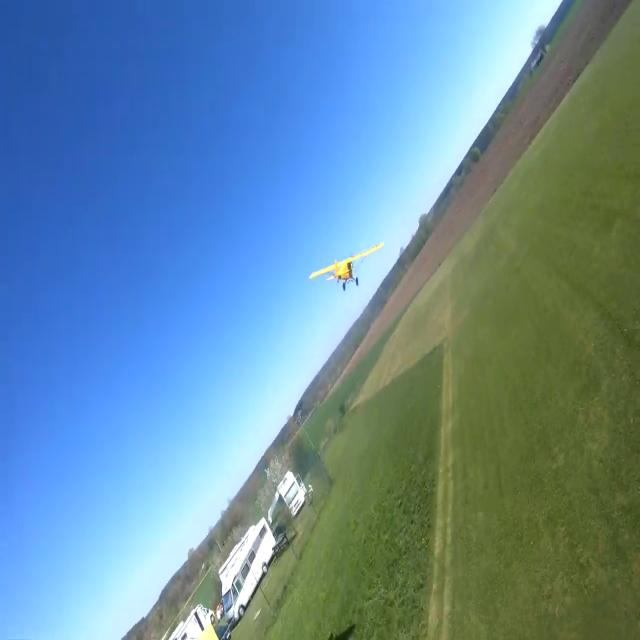iha: (339, 236, 355, 283)
